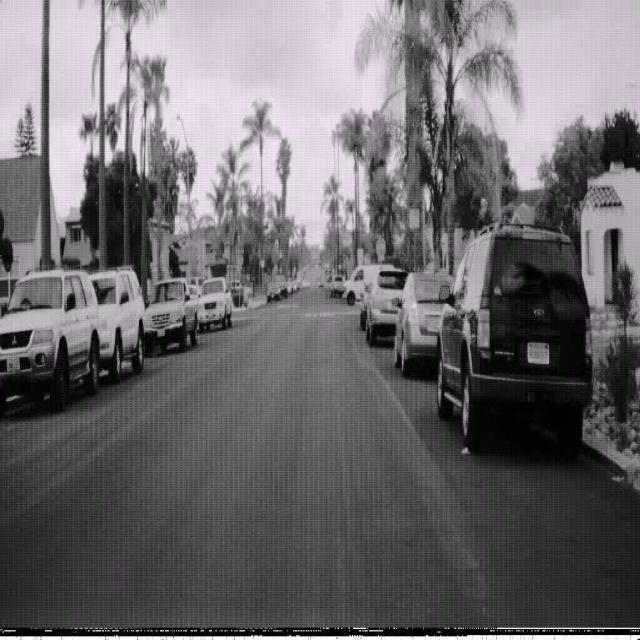stop: (375, 236, 386, 258)
